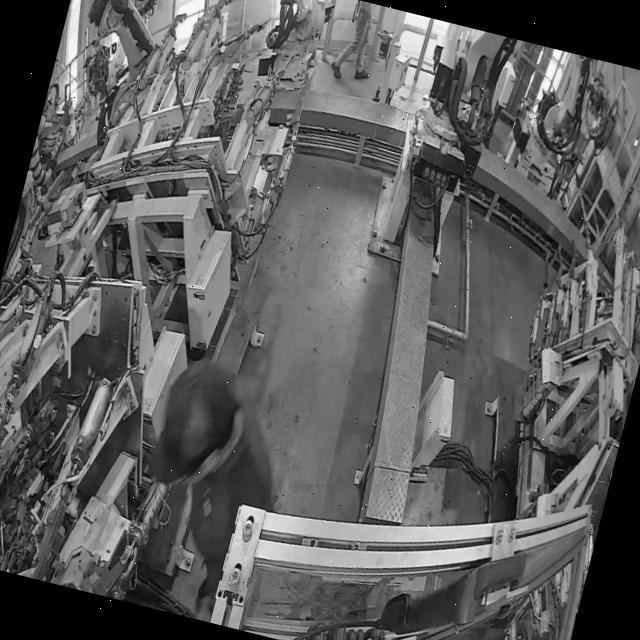Person: (114, 348, 306, 631), (326, 0, 385, 84)
